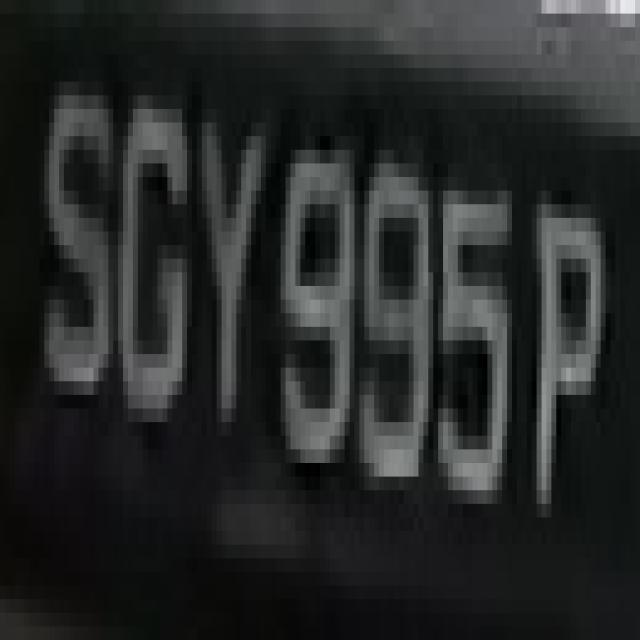5: (428, 123, 517, 531)
9: (271, 96, 354, 490), (355, 163, 438, 531)
G: (103, 82, 197, 449)
P: (522, 123, 620, 558)
S: (34, 41, 104, 449)
Y: (192, 96, 271, 450)
